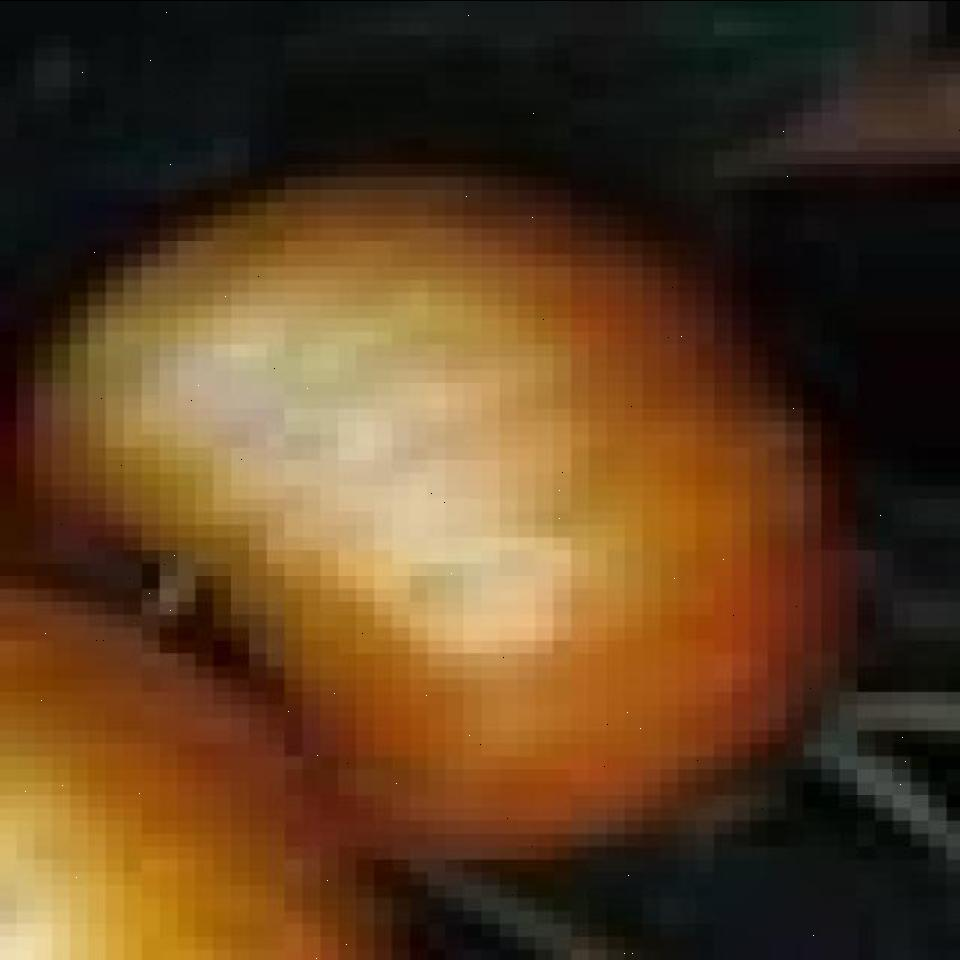Sunscald: (69, 278, 607, 678)
